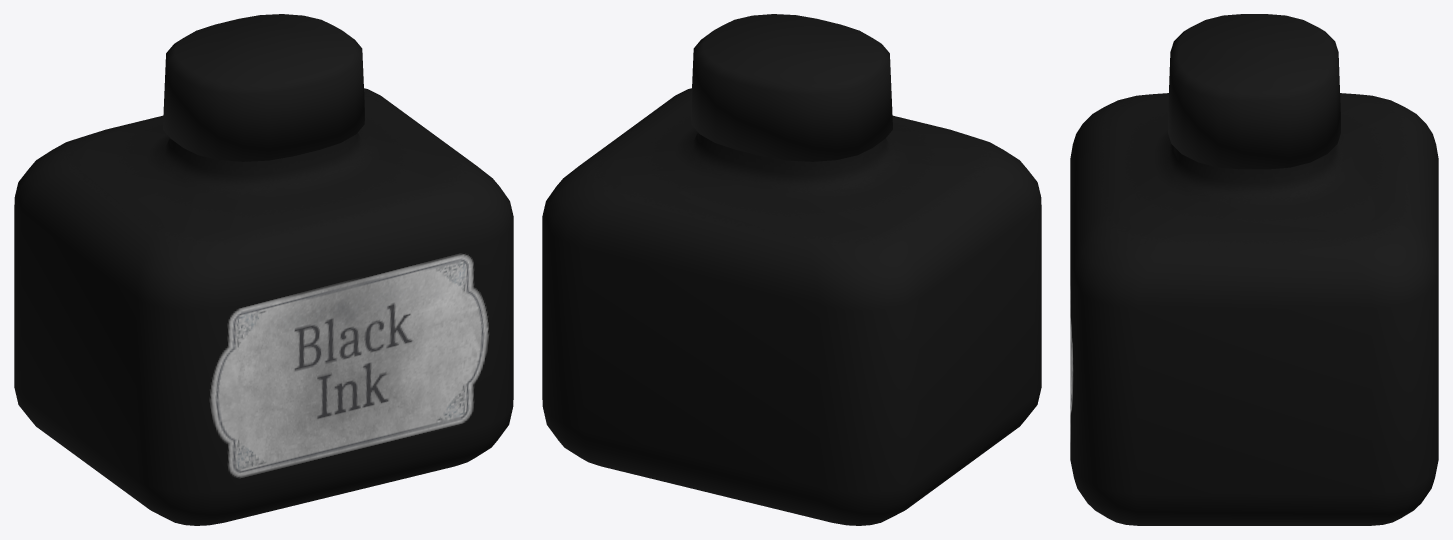
The model's file is ink_pot_01.fbx.
3 renders of one model, left to right at view 1: azimuth 30°, elevation 25°; view 2: azimuth 150°, elevation 25°; view 3: azimuth 270°, elevation 25°, orthographic.
Parts seen in each view (by area): view 1: ink_pot_01, ink_pot_01.lid; view 2: ink_pot_01, ink_pot_01.lid; view 3: ink_pot_01, ink_pot_01.lid.
Part boxes in pixels (left/top/right/bottom): ink_pot_01: left=14, top=88, right=513, bottom=525; ink_pot_01.lid: left=163, top=14, right=364, bottom=161; ink_pot_01: left=542, top=88, right=1041, bottom=525; ink_pot_01.lid: left=691, top=14, right=892, bottom=161; ink_pot_01: left=1070, top=93, right=1438, bottom=525; ink_pot_01.lid: left=1168, top=14, right=1340, bottom=169.
Bounding box in the file's own units: 19.6 × 20.16 × 16.58.
